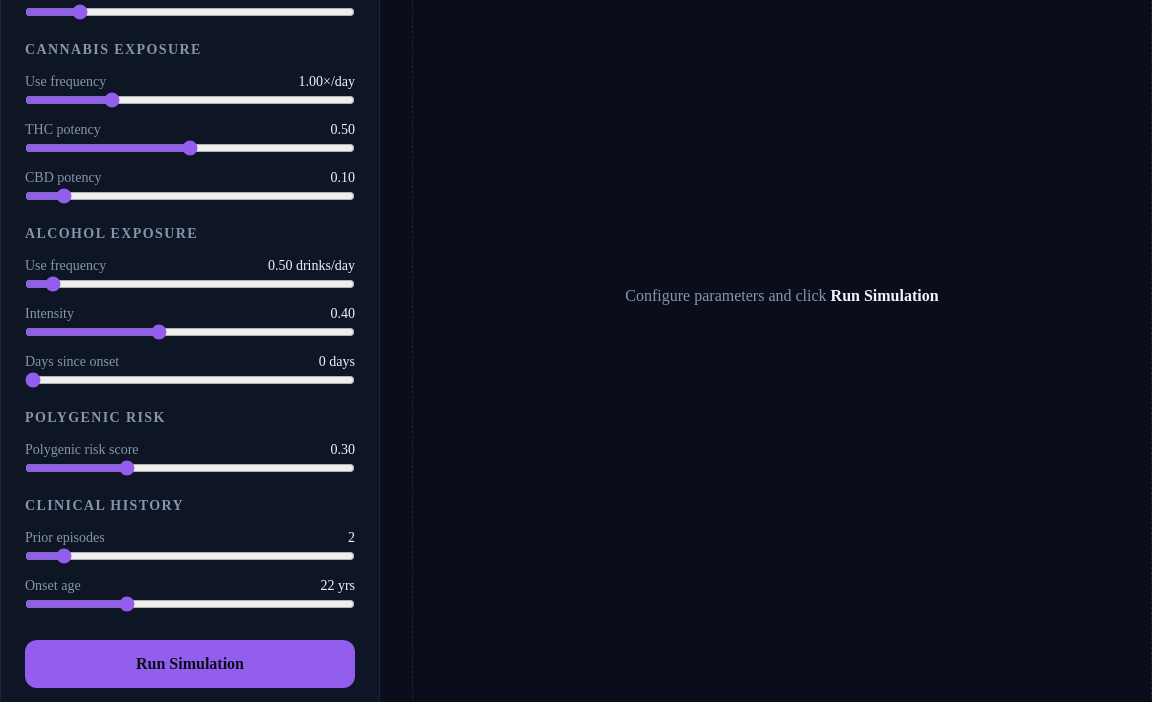
Test: SimulatorClient › hides the placeholder after simulation completes
This screenshot has width=1152, height=702.
(page scrolled)
Click the button "Run Simulation".
click(190, 664)  # box [25,640,355,688]
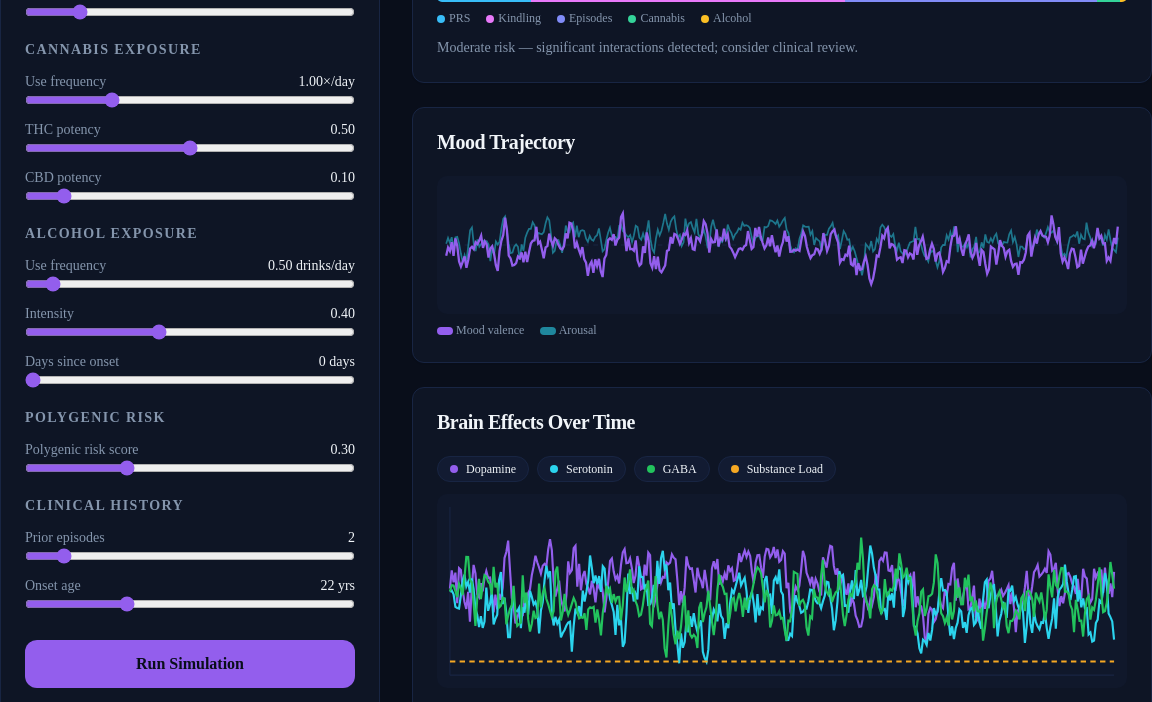
Result: the text "Configure parameters and click" is gone
